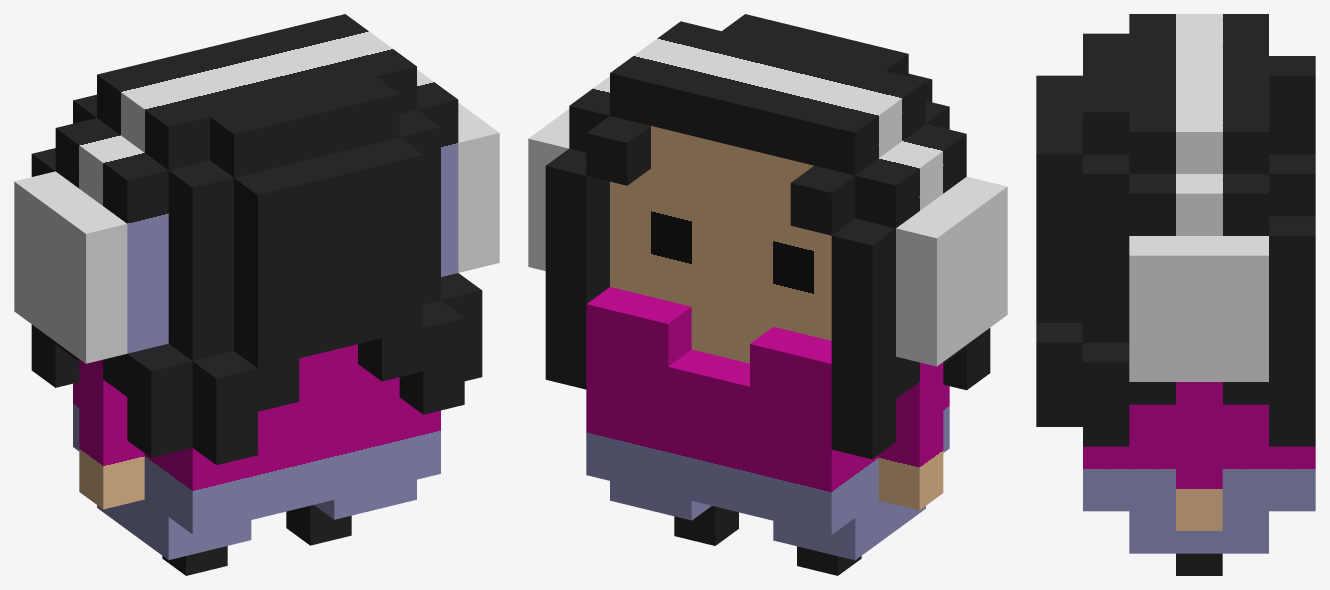
The model's file is chr_headphones.fbx.
3 views of the same model, side by side, from view 1: azimuth 30°, elevation 25°; view 2: azimuth 150°, elevation 25°; view 3: azimuth 270°, elevation 25° (orthographic). The views are drawn at different scales.
Parts seen in each view (by area): view 1: chr_headphones; view 2: chr_headphones; view 3: chr_headphones.
Boxes of the visible parts, bbox=[...] form: chr_headphones: bbox=[14, 14, 499, 575]; chr_headphones: bbox=[528, 14, 1007, 575]; chr_headphones: bbox=[1036, 14, 1315, 575].
Size of the model in its own units: 1 by 0.6 by 1.1.
Materials: 1 (1 with a texture image).
